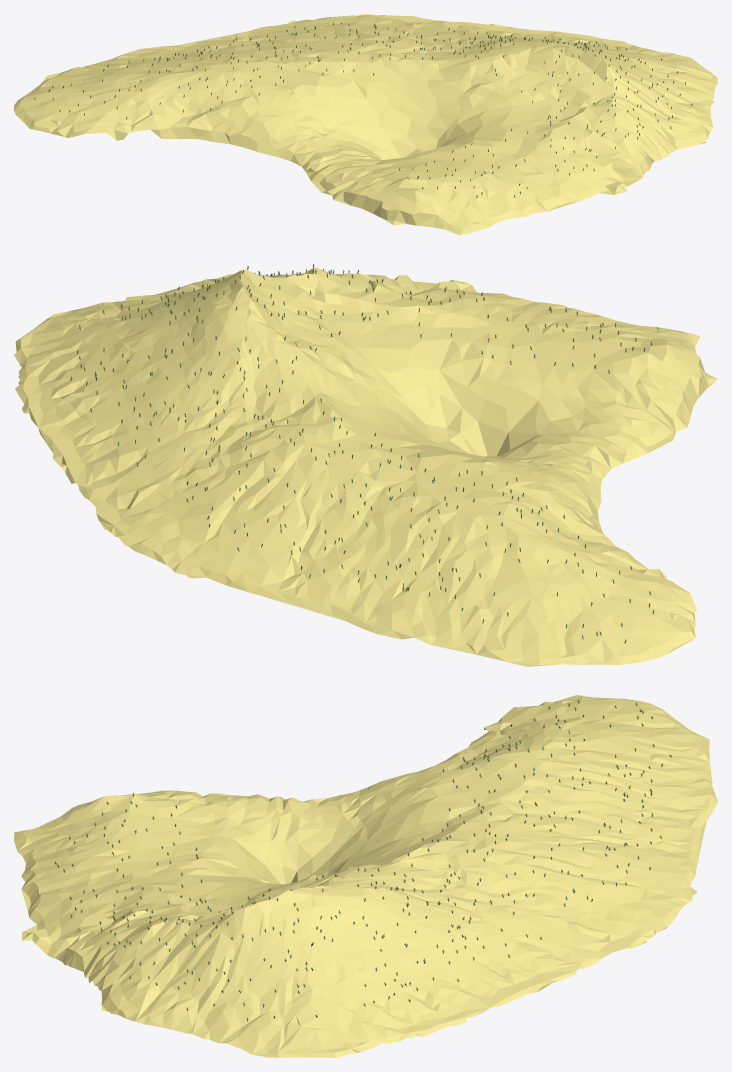
File: oasis.fbx
3 views of the same model, one above another, from view 1: azimuth 30°, elevation 25°; view 2: azimuth 150°, elevation 25°; view 3: azimuth 270°, elevation 25° (orthographic). The views are drawn at different scales.
Visible parts, largest first — view 1: Plane.003; view 2: Plane.003; view 3: Plane.003.
Part boxes in pixels (x1,y1,x2,y2): Plane.003: [14, 14, 717, 235]; Plane.003: [14, 264, 717, 666]; Plane.003: [14, 695, 717, 1057].
Bounding box in the file's own units: 53198 × 7596 × 43785.
